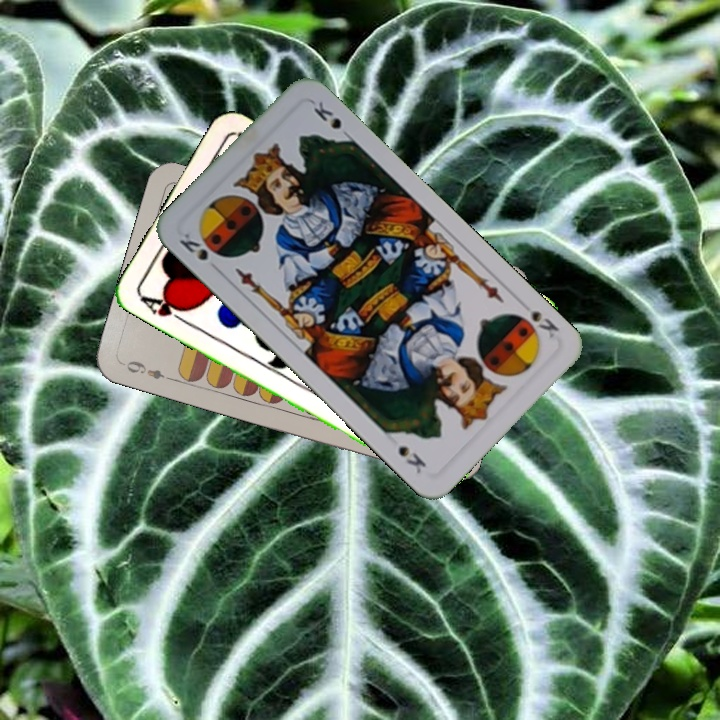E9: (122, 356, 176, 384)
HA: (136, 291, 191, 328)
SK: (515, 297, 562, 341), (175, 228, 211, 263)
